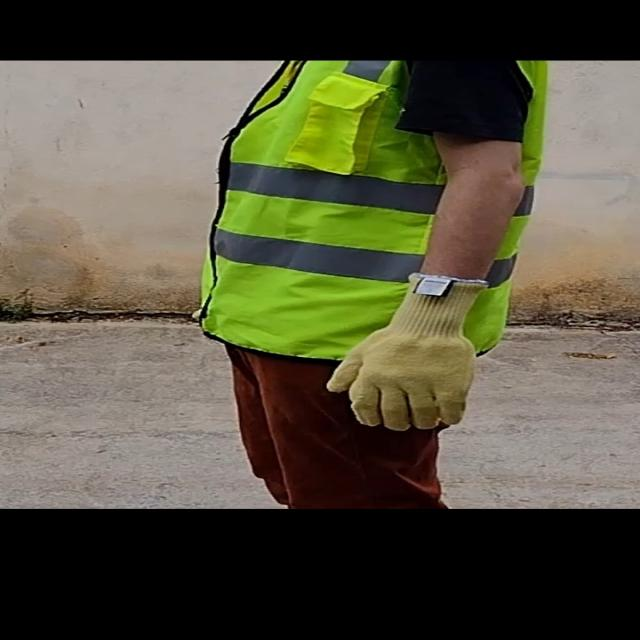glove: (323, 271, 484, 434)
pants: (234, 351, 483, 506)
vest: (169, 59, 554, 359)
